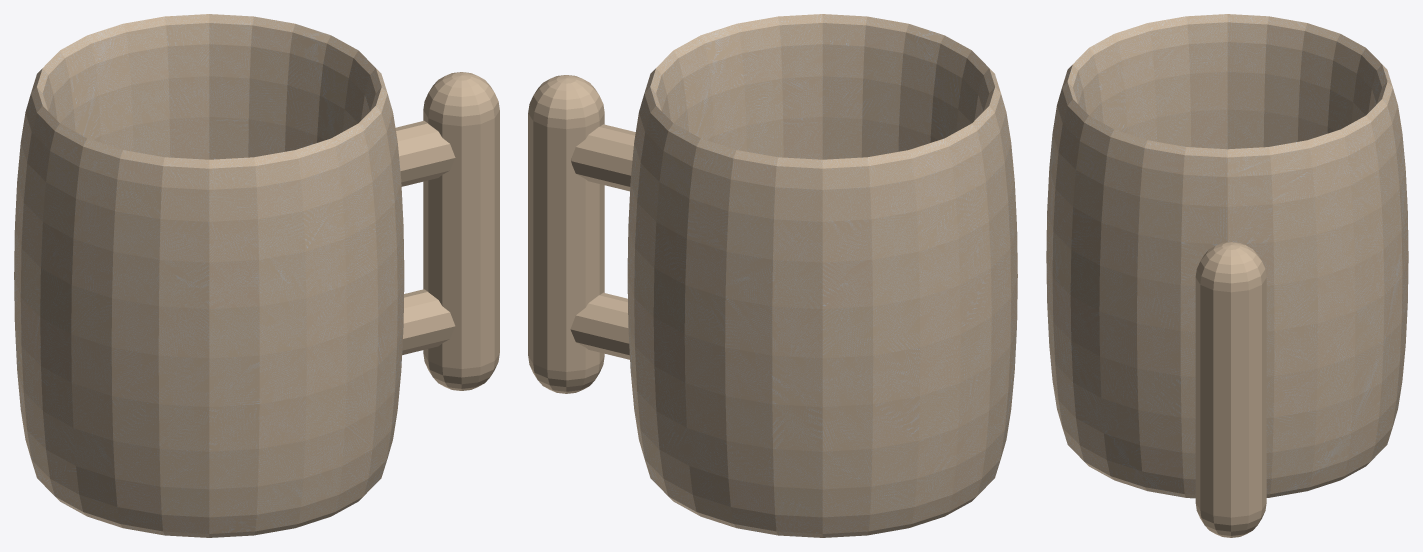
3 views of the same model, side by side, from view 1: azimuth 30°, elevation 25°; view 2: azimuth 150°, elevation 25°; view 3: azimuth 270°, elevation 25° (orthographic). The views are drawn at different scales.
Visible parts, largest first — view 1: mesh4.002_mesh4-geometry, mesh2.002_mesh2-geometry, mesh1.002_mesh1-geometry, mesh3.002_mesh3-geometry; view 2: mesh4.002_mesh4-geometry, mesh2.002_mesh2-geometry, mesh1.002_mesh1-geometry, mesh3.002_mesh3-geometry; view 3: mesh4.002_mesh4-geometry, mesh2.002_mesh2-geometry.
Boxes of the visible parts, x1,y1,x2,y2 form: mesh4.002_mesh4-geometry: (14,14,404,537); mesh2.002_mesh2-geometry: (423,72,499,390); mesh1.002_mesh1-geometry: (395,121,455,186); mesh3.002_mesh3-geometry: (402,289,455,355); mesh4.002_mesh4-geometry: (627,14,1017,537); mesh2.002_mesh2-geometry: (528,75,604,393); mesh1.002_mesh1-geometry: (571,124,635,191); mesh3.002_mesh3-geometry: (570,292,629,359); mesh4.002_mesh4-geometry: (1046,14,1408,498); mesh2.002_mesh2-geometry: (1195,242,1266,537).
Bounding box in the file's own units: 0.678 × 0.5368 × 0.5021.
